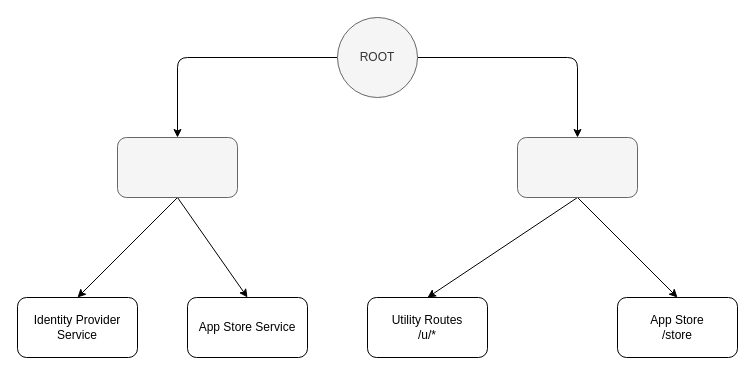
Some shapes in this 755 by 375 pixel diagram are drawn without their labels. Here are the shapes that lost their labels. From the top down, the centre of each, then its label:
At pixel 177 167: "SERVER".
At pixel 577 167: "CLIENT".
